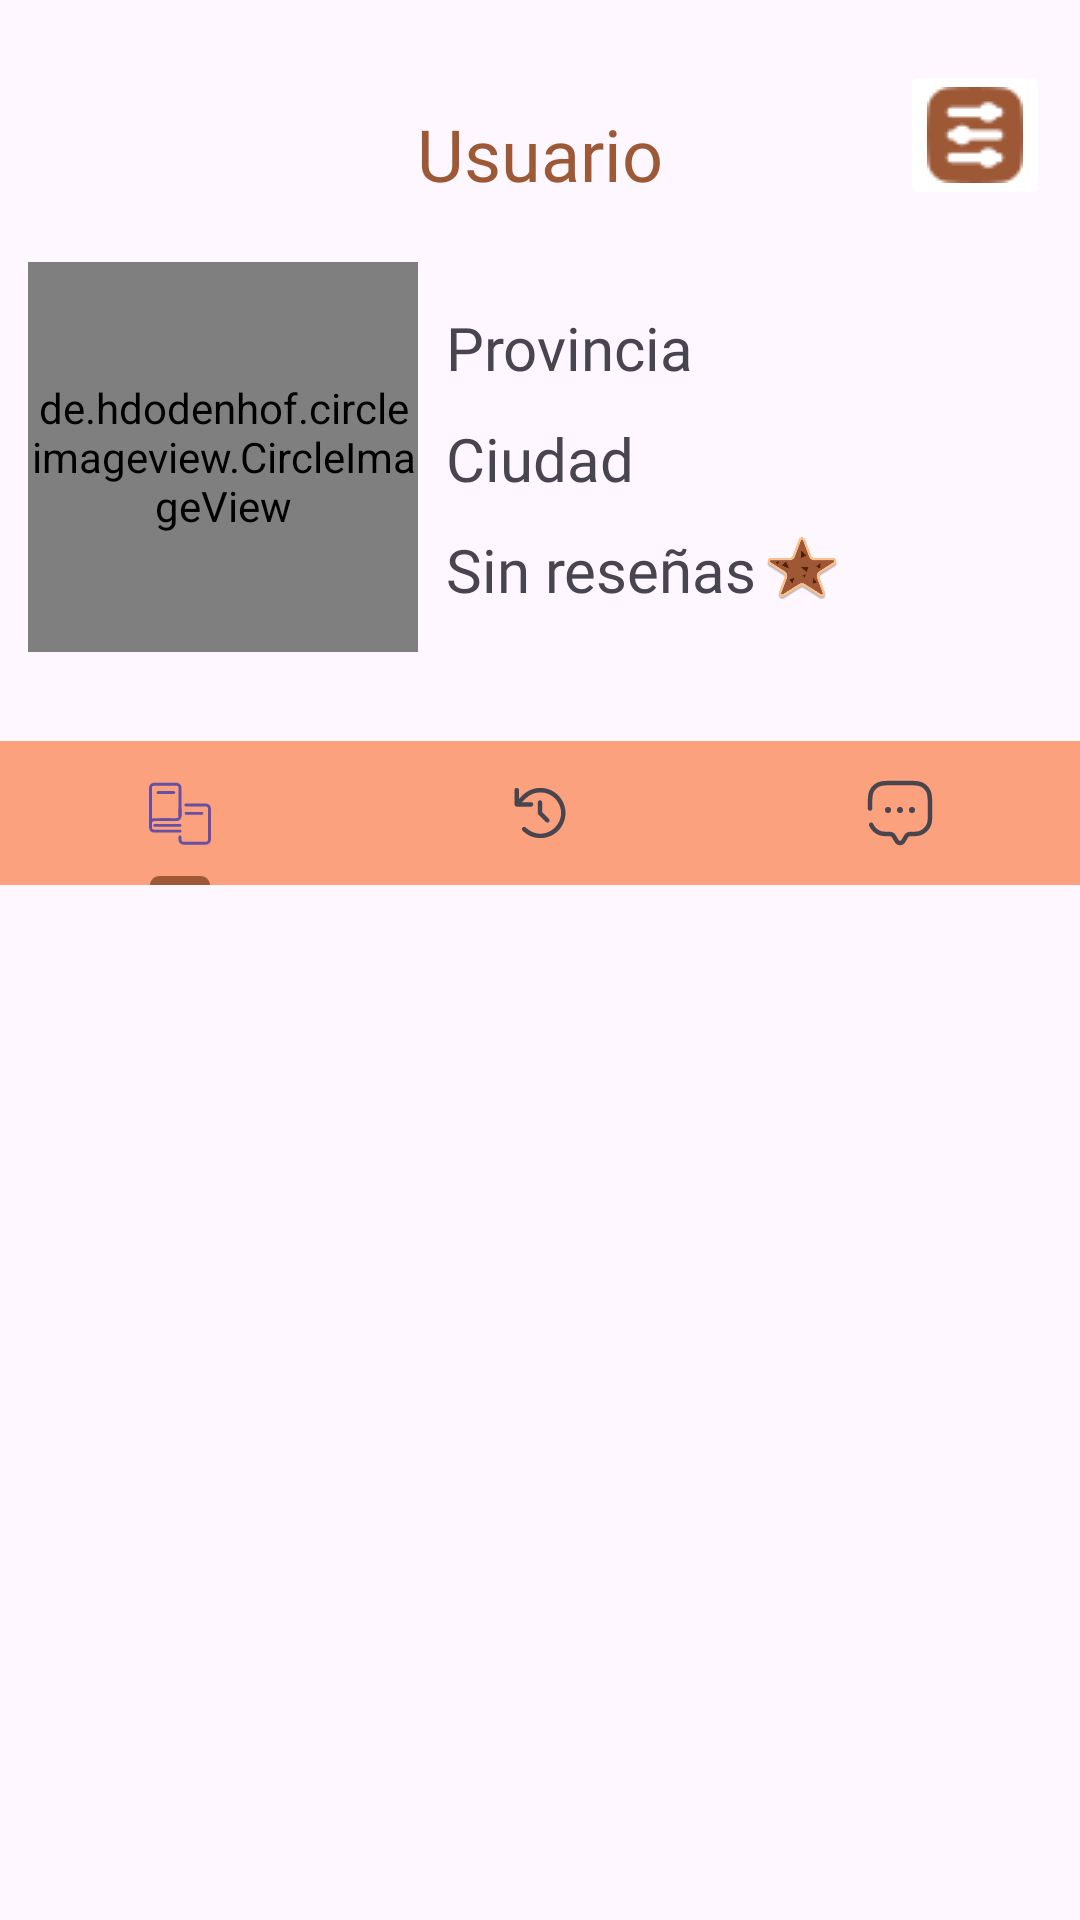

Screen size 1080px x 1920px. Icon name, then its center in pixels as (x,y):
ajustar: (975,135)
star: (801,568)
